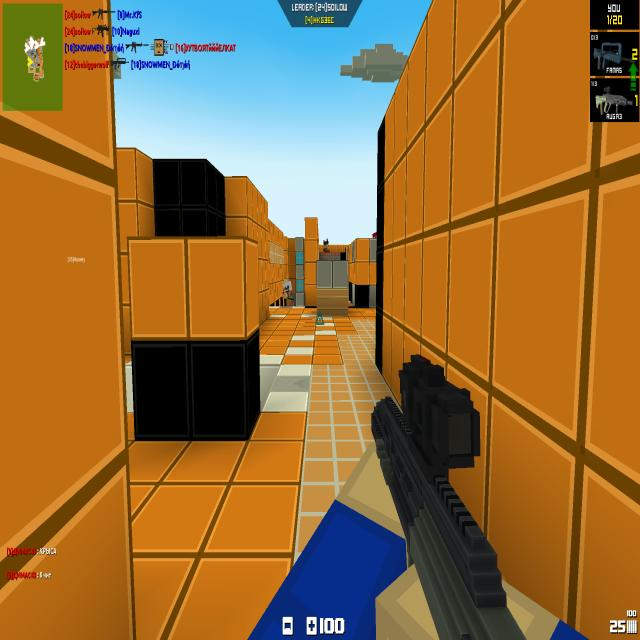enemy: (282, 280, 295, 308), (323, 238, 330, 253)
